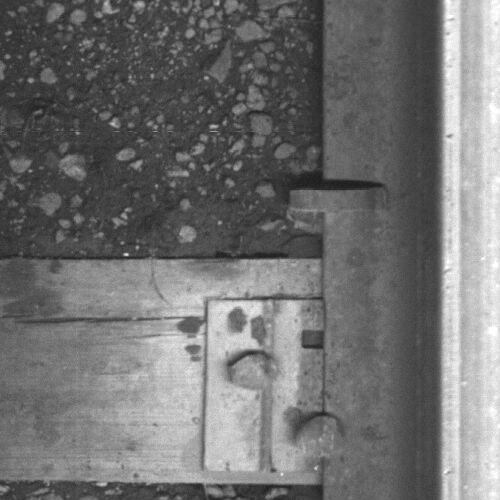crutch: (288, 184, 389, 211)
do: (201, 297, 346, 473)
hole_do: (294, 319, 338, 355)
rail: (440, 1, 500, 500)
tie_wood: (1, 259, 323, 485)
wood_crack: (1, 306, 197, 330)
